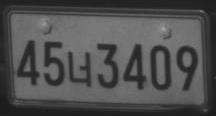0: (149, 43, 172, 91)
3: (95, 42, 119, 88)
4: (122, 42, 147, 90), (16, 40, 40, 86)
5: (43, 40, 65, 87)
9: (175, 44, 199, 91)
너: (66, 50, 92, 87)
